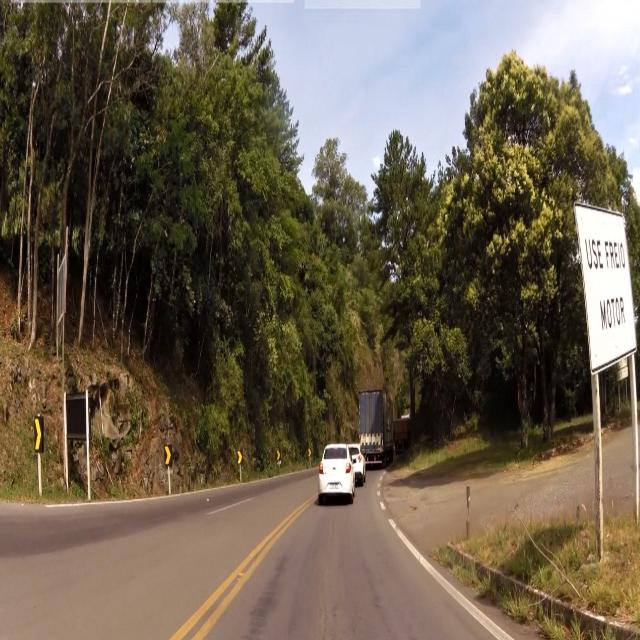Del: (33, 415, 44, 453), (164, 441, 172, 470), (237, 450, 243, 466)
E-5: (573, 199, 640, 376)
